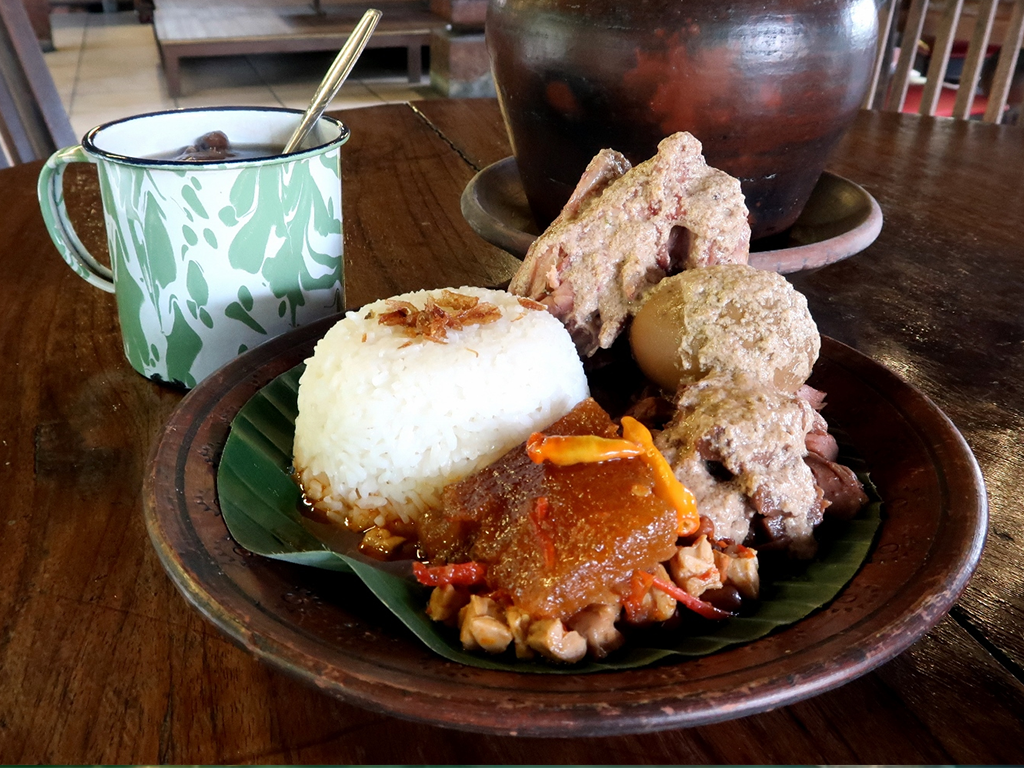gudeg: (294, 137, 865, 661)
